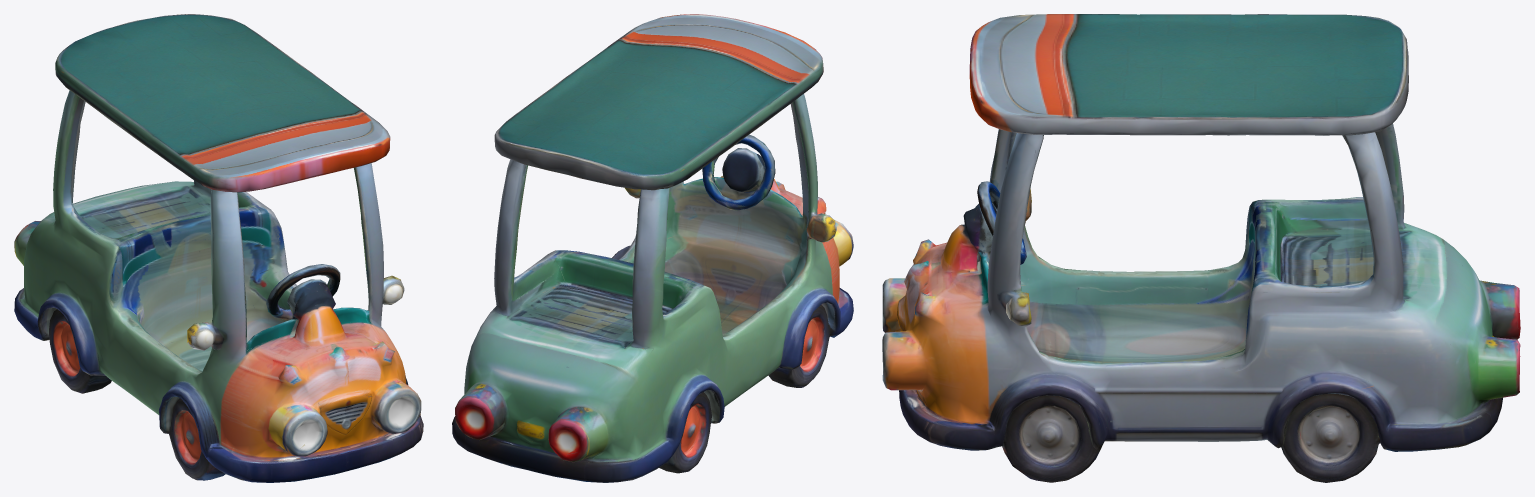
Rendered from Meshy_AI_shopping_mall_train_c_0223162737_texture.fbx.
3 views of the same model, side by side, from view 1: azimuth 30°, elevation 25°; view 2: azimuth 150°, elevation 25°; view 3: azimuth 270°, elevation 25° (orthographic). The views are drawn at different scales.
Parts seen in each view (by area): view 1: Mesh_0; view 2: Mesh_0; view 3: Mesh_0.
Part boxes in pixels (x1,y1,x2,y2): Mesh_0: (14, 14, 423, 482); Mesh_0: (452, 14, 853, 482); Mesh_0: (882, 14, 1520, 482).
Bounding box in the file's own units: 90.24 × 131 × 201.
1 material, 1 textured.
